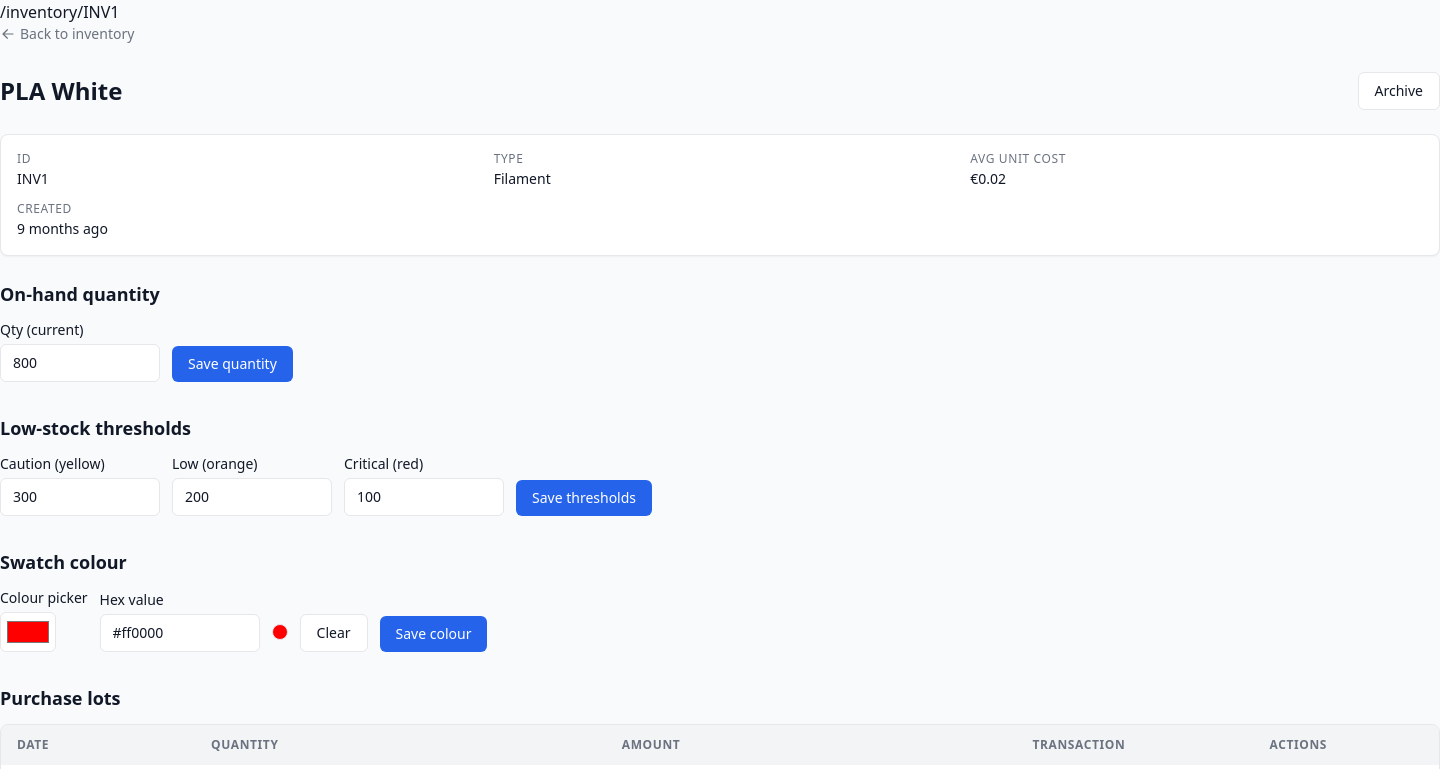
Test case: InventoryDetailPage › QtyEditor › rejects a blank count
The width and height of the screenshot is (1440, 769).
Clear the number field with test id "inventory-detail-qty-current" at (80, 363), box [0, 344, 160, 382]
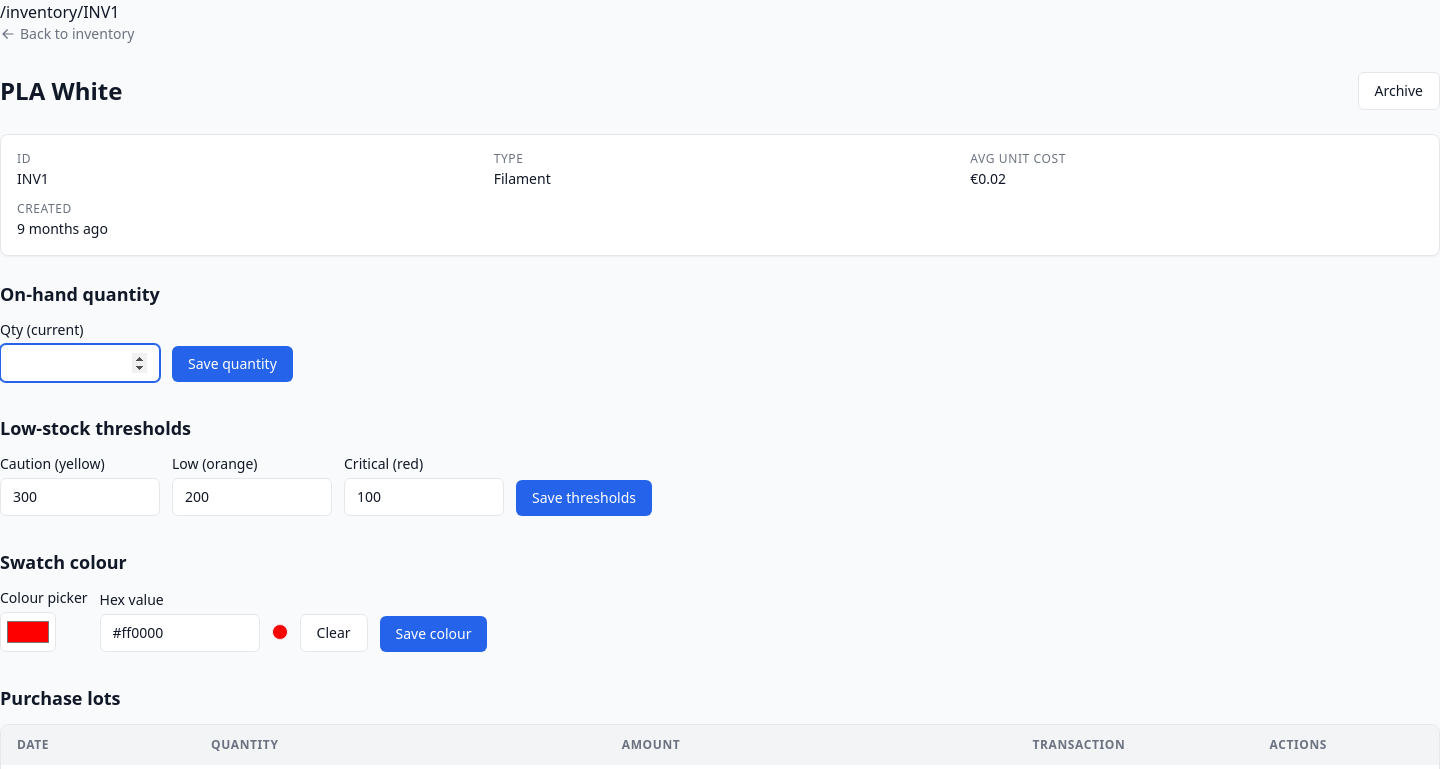
Click the button with test id "inventory-detail-save-qty".
click(232, 364)  # box [172, 346, 293, 382]
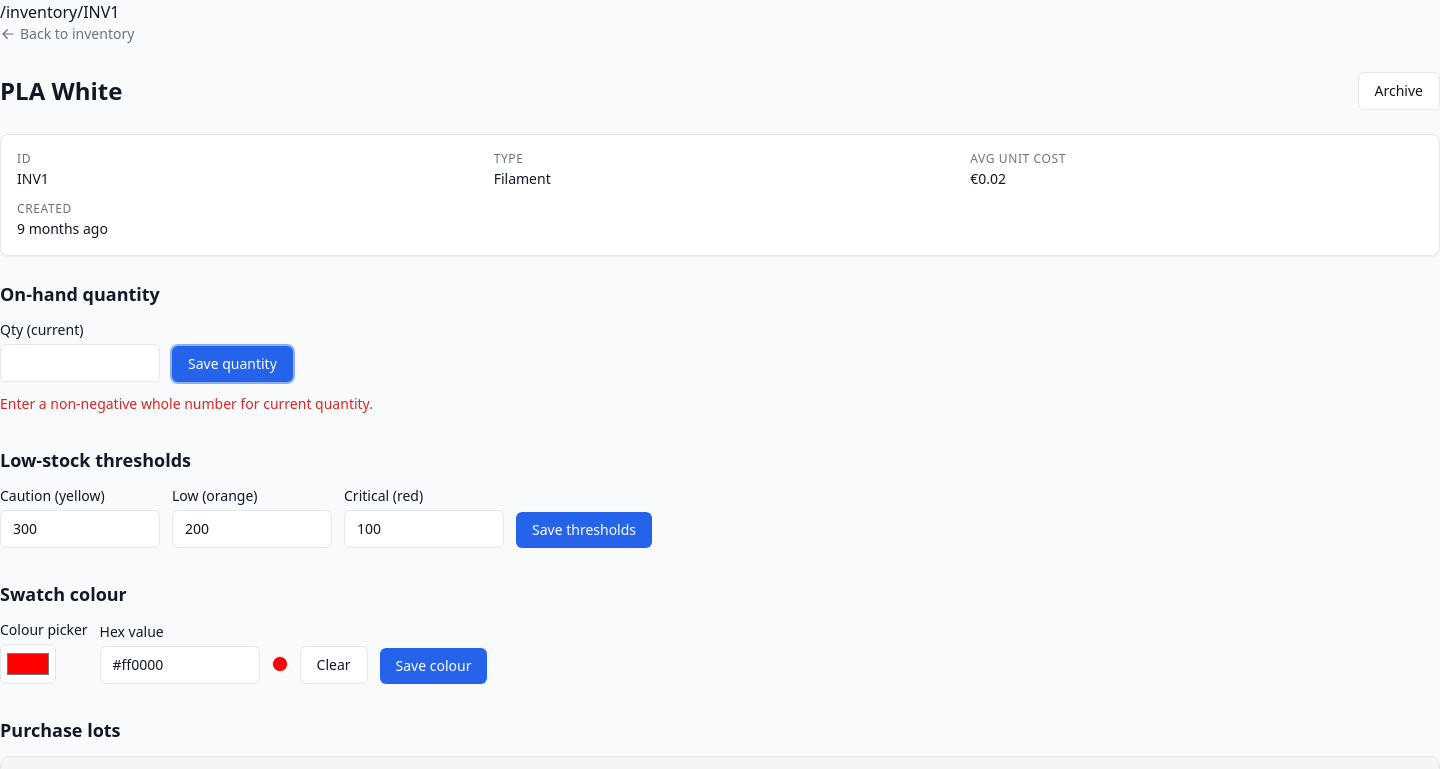
Expected: the message shows "non-negative", [0, 394, 373, 413]
